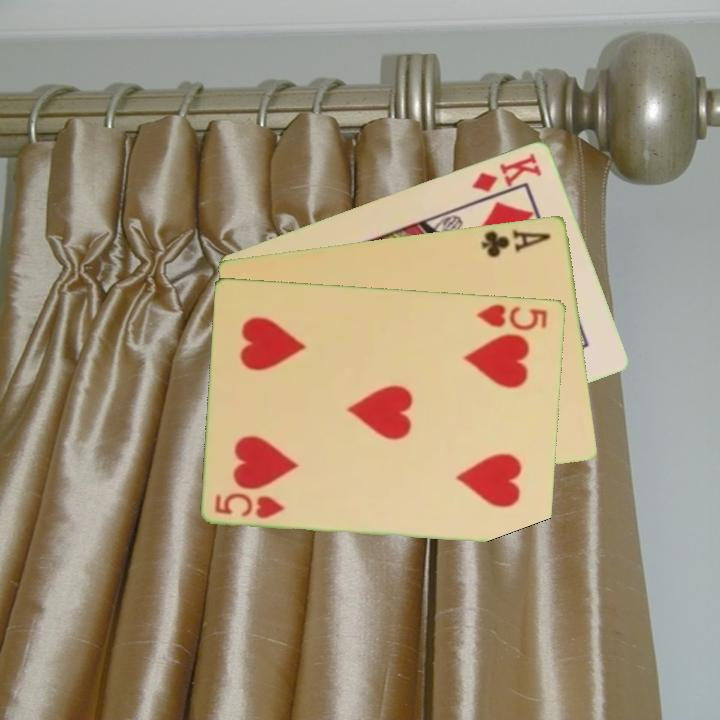5h: (474, 300, 551, 333), (211, 489, 288, 521)
Ac: (478, 225, 553, 260)
Kd: (468, 149, 545, 195)
